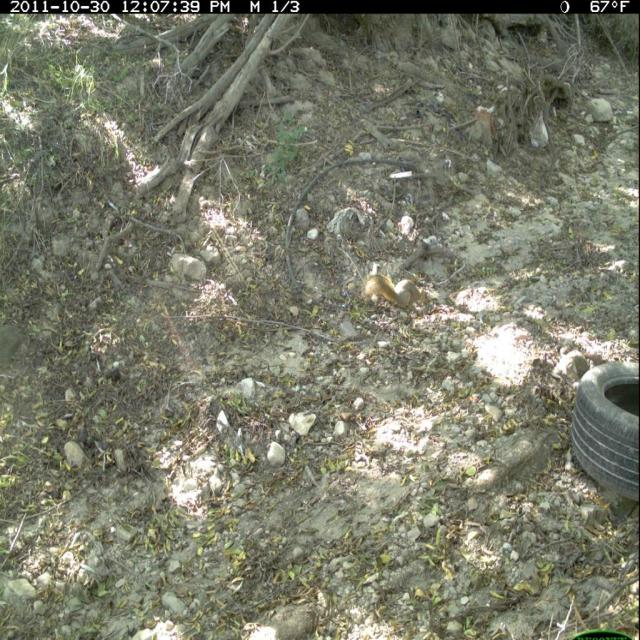squirrel: (360, 271, 432, 316)
